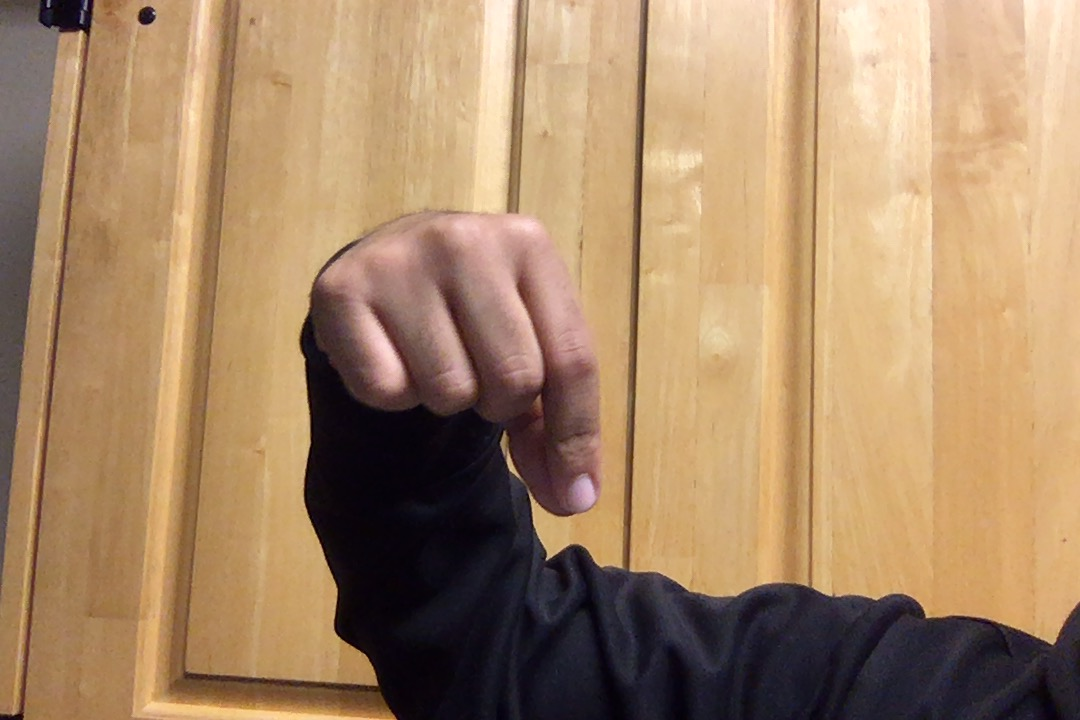q: (308, 204, 608, 522)
